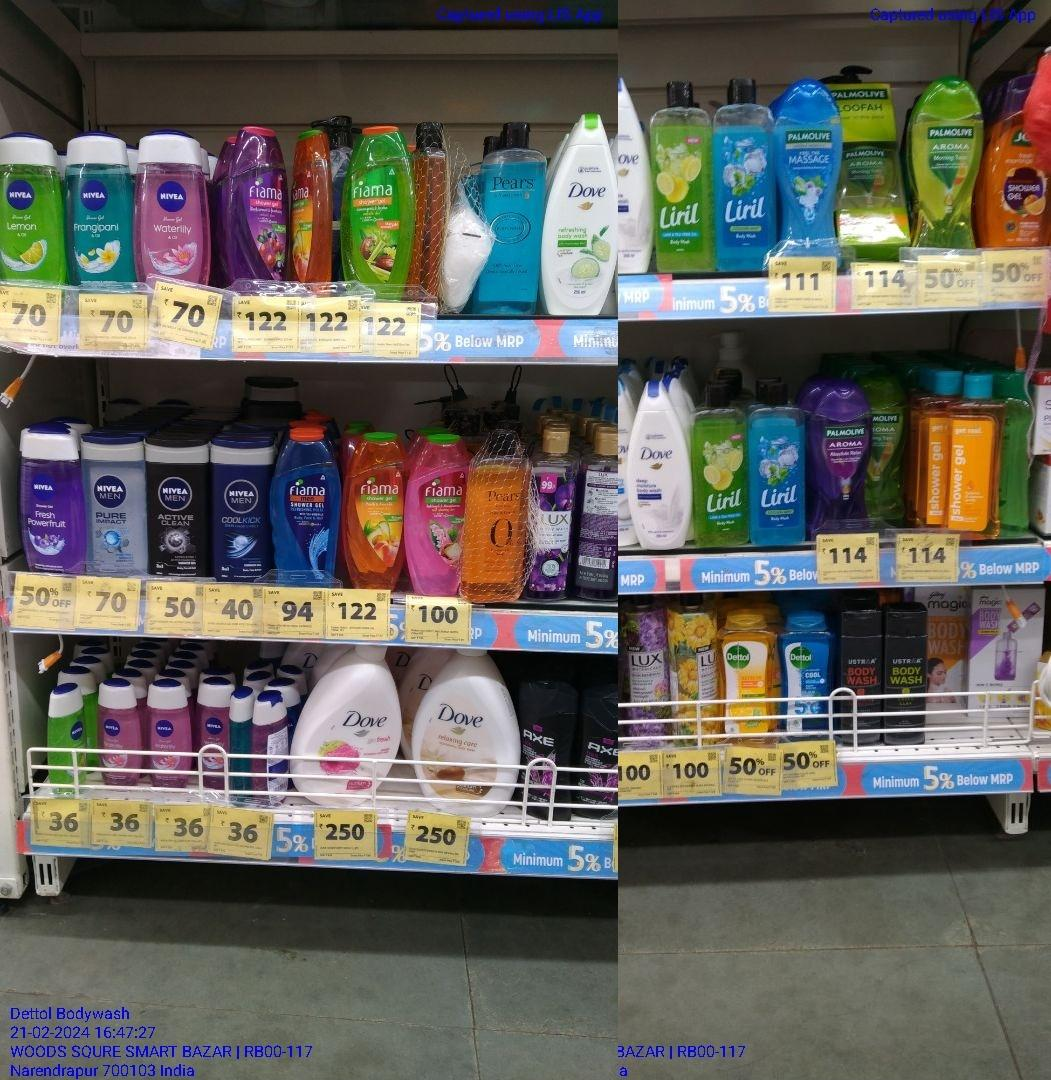Dettol_Bodywash_Cool: (776, 607, 834, 742)
Dettol_Bodywash_Refresh: (715, 607, 778, 746)
Dove_Deep_Moisture_Body_Wash_250ML: (627, 377, 690, 549)
Dove_Refreshing_Body_Wash_250ML: (544, 112, 617, 316)
Fiama_Shower_Gel_Lemongrass_and_Jojoba_250ML: (339, 124, 416, 285)
Fiama_Shower_Gel_Patchouli_and_Macadamia_250ML: (402, 430, 464, 597)
Fiama_Shower_Gel_Peach_and_Avocado_250ML: (341, 430, 403, 589)
Liril_Cooling_Mint_Body_Wash_250ML: (712, 76, 771, 271), (745, 381, 807, 545)
Liril_Lime_and_Tea_Tree_Oil_Body_Wash_250ML: (648, 78, 712, 272), (689, 380, 749, 548)
Lux_Black_Orchid_Scent_and_Juniper_Oil_Body_Wash_245ML: (529, 423, 579, 601)
Nivea_Shower_Gel_Frangipani_and_Oil_250ML: (67, 131, 135, 288)
Nivea_Shower_Gel_Fresh_Powerfruit_250ML: (17, 422, 83, 575)
Nivea_Shower_Gel_Lemon_and_Oil_250ML: (0, 129, 66, 287)
Nivea_Shower_Gel_Waterlily_and_Oil_250ML: (133, 125, 209, 283)
Palmolive_Aroma_Moments_Feel_The_Massage_Shower_Gel_250ML: (773, 77, 843, 256)
Palmolive_Aroma_Morning_Tonic_Shower_Gel_250ML: (908, 75, 982, 251)
Palmolive_Aroma_Relax_250ML: (807, 378, 870, 530)
Pears_Pure_Glycerin_and_Mint_Extracts_Body_Wash_250ML: (476, 118, 545, 316)
